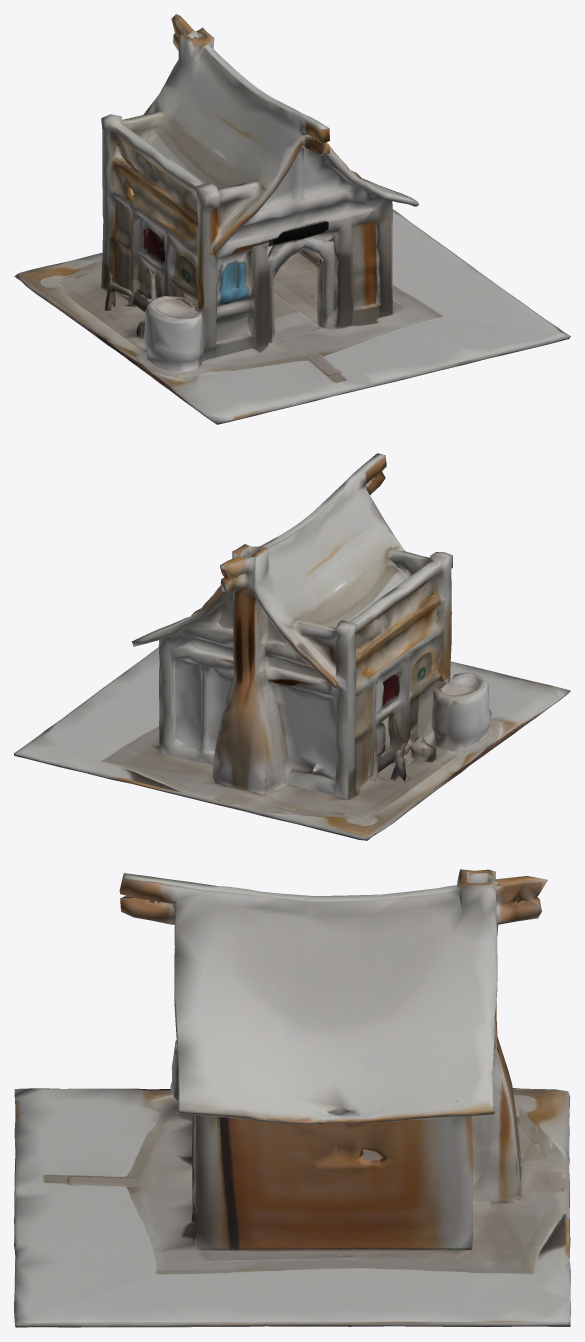
The picture shows the model from 3 angles, top to bottom: view 1: azimuth 30°, elevation 25°; view 2: azimuth 150°, elevation 25°; view 3: azimuth 270°, elevation 25°; orthographic projection. The views are drawn at different scales.
Bounding box in the file's own units: 2.04 × 1.27 × 2.01.
1 material, 1 textured.
